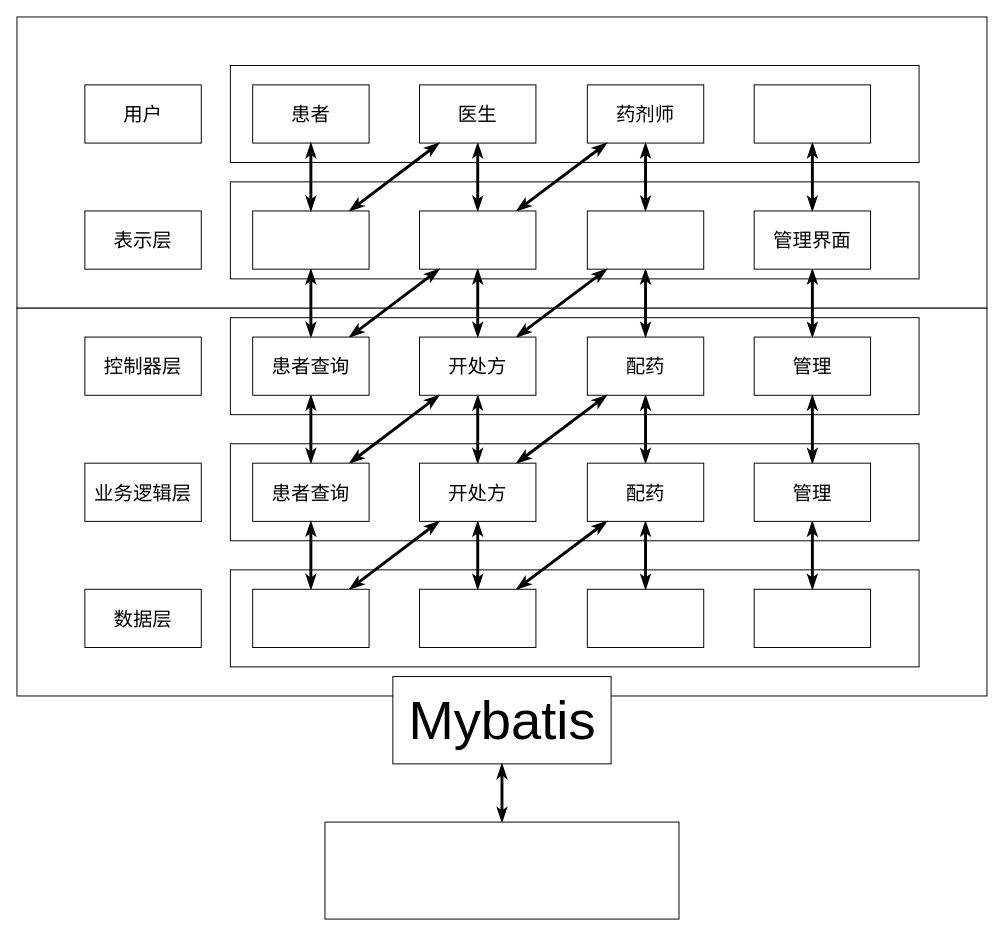
The diagram is 1004 pixels wide and 936 high, and some of its shapes have lost their labels. The centre of each missing label's shape, as x and y in pixels:
"Mysql" belongs at point 501,870.
"后台人员" belongs at point 812,113.
"处方数据" belongs at point 477,617.
"处方界面" belongs at point 477,239.
"患者数据" belongs at point 310,617.
"患者界面" belongs at point 310,239.
"药物数据" belongs at point 645,617.
"角色数据" belongs at point 812,617.
"配药界面" belongs at point 645,239.
